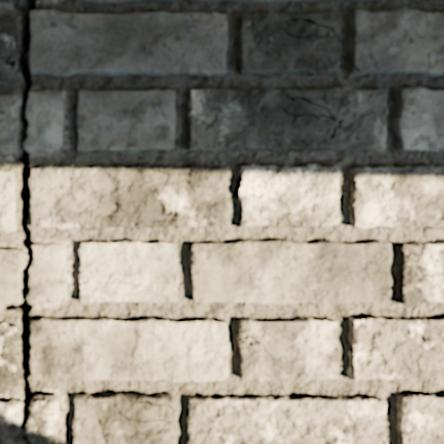brick: (30, 9, 227, 75), (191, 240, 392, 304), (189, 87, 388, 151), (30, 166, 227, 230), (31, 318, 229, 381), (186, 397, 387, 443), (236, 318, 340, 381), (239, 12, 341, 75), (238, 165, 339, 228), (349, 8, 443, 75), (80, 241, 178, 303), (78, 90, 174, 153), (348, 317, 443, 379), (351, 166, 443, 229), (74, 393, 172, 443), (394, 88, 443, 151), (397, 242, 443, 303), (397, 395, 443, 443), (0, 324, 19, 387), (290, 12, 341, 33), (0, 20, 17, 82), (0, 172, 16, 231), (233, 0, 319, 3), (85, 0, 173, 2)
broken_brick: (28, 243, 68, 306), (25, 90, 64, 153), (27, 394, 60, 443), (0, 248, 24, 308), (0, 94, 19, 158), (0, 399, 22, 443), (0, 0, 19, 3)
crack: (2, 0, 59, 443), (281, 14, 340, 42), (237, 332, 273, 360), (120, 412, 173, 424), (127, 395, 172, 409), (144, 165, 191, 176), (0, 19, 10, 23), (376, 425, 384, 430), (439, 217, 443, 221)
